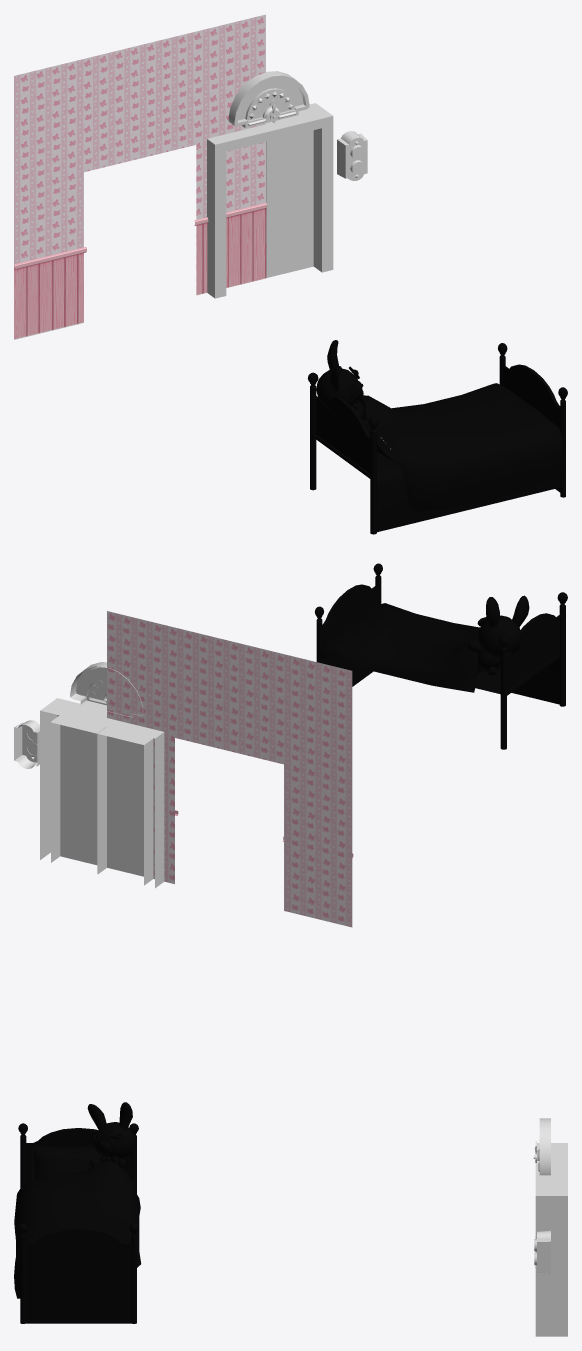
File: lobby.fbx
3 views of the same model, one above another, from view 1: azimuth 30°, elevation 25°; view 2: azimuth 150°, elevation 25°; view 3: azimuth 270°, elevation 25° (orthographic). The views are drawn at different scales.
Visible parts, largest first — view 1: evwall_base, Box001, evwall, EV, EVdoor_R, EV_stairnumber, EVbutton; view 2: evwall_base, Box001, EV, EVdoor_L, EVdoor_R, EV_stairnumber, EVbutton; view 3: Box001, EV, EV_stairnumber, EVbutton.
Part boxes in pixels (x1,y1,x2,y2): evwall_base: (14, 14, 265, 339); Box001: (307, 340, 567, 534); evwall: (14, 203, 267, 339); EV: (207, 103, 333, 298); EVdoor_R: (266, 130, 313, 277); EV_stairnumber: (228, 71, 309, 127); EVbutton: (337, 131, 367, 180); evwall_base: (107, 611, 352, 927); Box001: (315, 563, 567, 749); EV: (40, 698, 164, 888); EVdoor_L: (98, 727, 153, 878); EVdoor_R: (51, 715, 105, 873); EV_stairnumber: (70, 662, 143, 717); EVbutton: (14, 720, 39, 768); Box001: (14, 1102, 141, 1323); EV: (535, 1143, 567, 1336); EV_stairnumber: (533, 1118, 550, 1175); EVbutton: (535, 1230, 550, 1273).
Bounding box in the file's own units: 1653 × 1243 × 2494.
